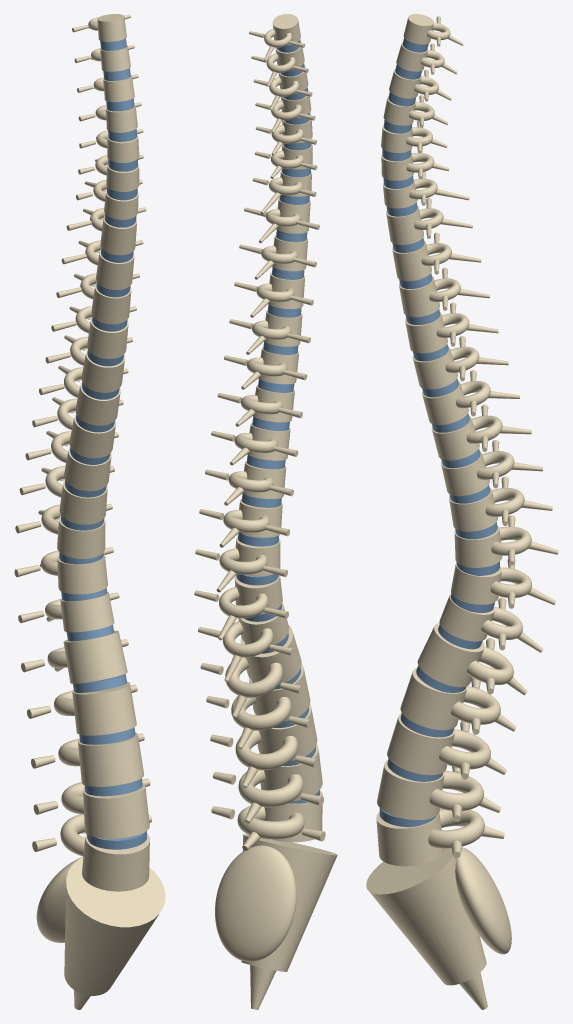
Rendered from schematic-vertebral-column.glb.
The picture shows the model from 3 angles, left to right: view 1: azimuth 30°, elevation 25°; view 2: azimuth 150°, elevation 25°; view 3: azimuth 270°, elevation 25°; orthographic projection. The views are drawn at different scales.
Visible parts, largest first — view 1: Sacrum, Intervertebral discs, L5, L4, L3, L2, L1, T12, T11, T10, T9, T8 (+14 smaller); view 2: Sacrum, Intervertebral discs, L4, L3, L5, L1, L2, T12, T11, T10, T9, T8 (+15 smaller); view 3: Sacrum, Intervertebral discs, L5, L4, L3, L2, L1, T12, T11, T10, T9, T8 (+15 smaller).
Boxes of the visible parts, x1,y1,x2,y2 form: Sacrum: [36, 857, 165, 995]; Intervertebral discs: [59, 38, 146, 849]; L5: [32, 814, 151, 891]; L4: [33, 778, 150, 838]; L3: [31, 732, 144, 786]; L2: [27, 681, 137, 735]; L1: [21, 630, 128, 683]; T12: [18, 591, 119, 632]; T11: [14, 547, 113, 594]; T10: [15, 504, 112, 558]; T9: [19, 465, 114, 524]; T8: [25, 430, 118, 491]; Sacrum: [215, 834, 337, 971]; Intervertebral discs: [236, 39, 319, 803]; L4: [212, 744, 323, 823]; L3: [210, 704, 318, 788]; L5: [211, 790, 325, 850]; L1: [200, 625, 303, 717]; L2: [206, 664, 311, 749]; T12: [198, 602, 294, 681]; T11: [194, 575, 288, 640]; T10: [195, 536, 287, 592]; T9: [199, 499, 289, 547]; T8: [205, 461, 293, 505]; Sacrum: [366, 847, 511, 985]; Intervertebral discs: [379, 38, 499, 827]; L5: [376, 809, 504, 866]; L4: [377, 759, 501, 821]; L3: [387, 713, 506, 779]; L2: [400, 667, 516, 734]; L1: [417, 623, 527, 695]; T12: [439, 593, 543, 652]; T11: [451, 559, 556, 608]; T10: [454, 515, 558, 567]; T9: [449, 476, 552, 531]; T8: [441, 440, 543, 496].
Bounding box in the file's own units: 8.61 × 72.64 × 12.8.
